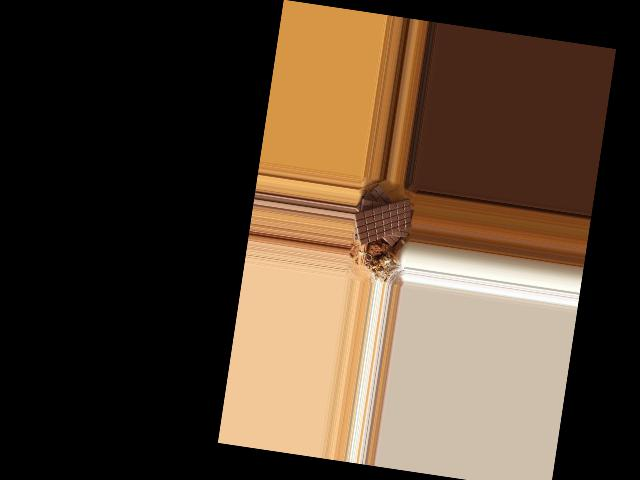chocolate: (349, 190, 413, 255)
